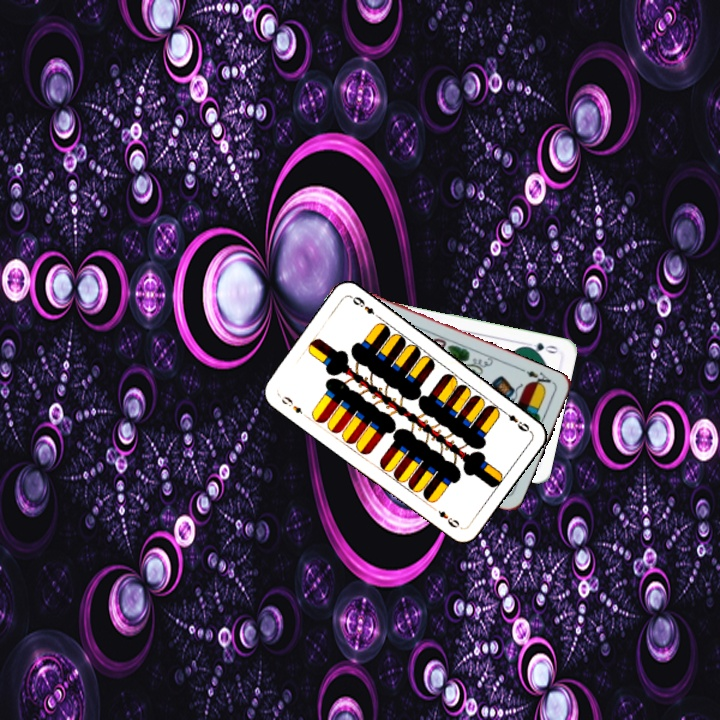E9: (498, 406, 533, 434), (277, 392, 305, 417)
EA: (517, 365, 554, 391)
GO: (520, 338, 561, 356)
